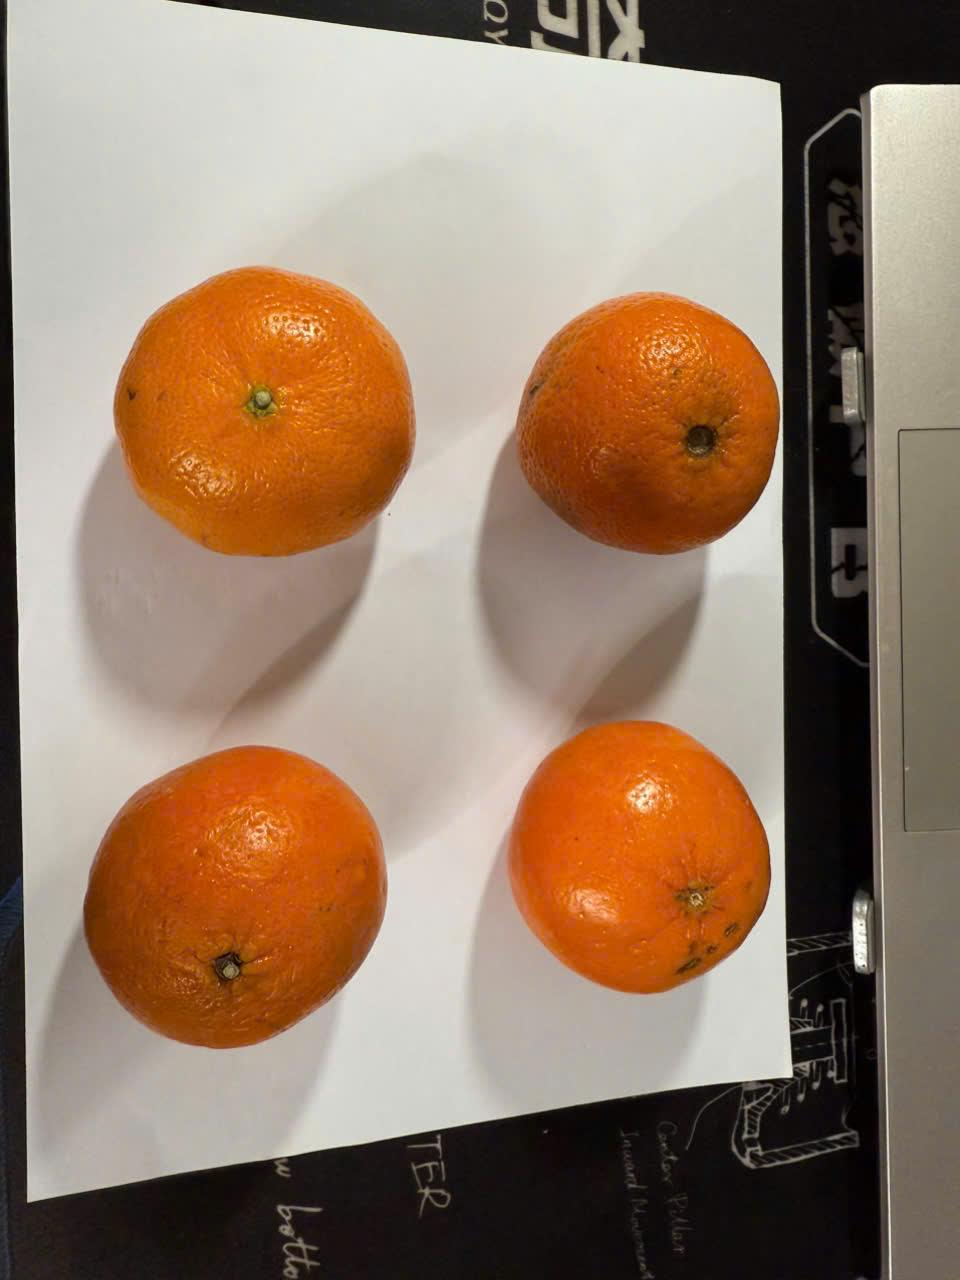orange: (75, 721, 412, 1052), (103, 243, 426, 575), (500, 263, 796, 604), (482, 703, 781, 1020)
